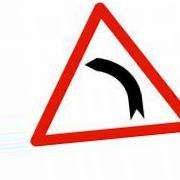left: (29, 1, 180, 147)
